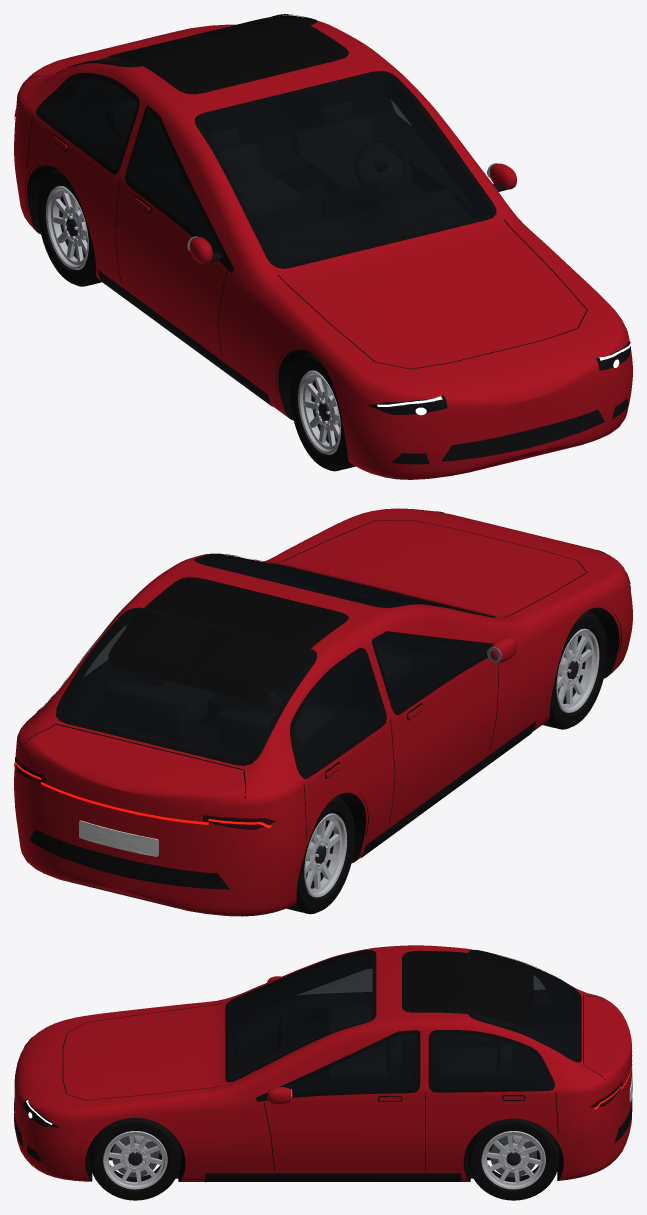
Rendered from berline_rouge.glb.
3 views of the same model, one above another, from view 1: azimuth 30°, elevation 25°; view 2: azimuth 150°, elevation 25°; view 3: azimuth 270°, elevation 25° (orthographic). The views are drawn at different scales.
Visible parts, largest first — view 1: carrosserie, vitres, interieur, toit_vitre, joints, roue_AVD, roue_ARD, grille_avant, bas_de_caisse, feux_avant, retros; view 2: carrosserie, vitres, toit_vitre, interieur, joints, roue_AVD, roue_ARD, grille_avant, bas_de_caisse, feux_arriere, plaque, retros; view 3: carrosserie, vitres, interieur, toit_vitre, joints, roue_AVG, roue_ARG, bas_de_caisse, grille_avant, retros.
Boxes of the visible parts, <box> form: carrosserie: <box>14,15,632,479</box>; vitres: <box>39,16,491,264</box>; interieur: <box>106,100,471,264</box>; toit_vitre: <box>108,17,348,94</box>; joints: <box>27,14,587,369</box>; roue_AVD: <box>290,352,355,471</box>; roue_ARD: <box>37,168,101,286</box>; grille_avant: <box>391,398,628,464</box>; bas_de_caisse: <box>25,163,290,406</box>; feux_avant: <box>368,342,630,415</box>; retros: <box>187,163,516,263</box>; carrosserie: <box>14,508,632,916</box>; vitres: <box>61,555,489,773</box>; toit_vitre: <box>108,577,348,700</box>; interieur: <box>106,582,467,759</box>; joints: <box>25,520,587,839</box>; roue_AVD: <box>542,611,607,729</box>; roue_ARD: <box>287,796,355,914</box>; grille_avant: <box>29,829,229,889</box>; bas_de_caisse: <box>355,605,621,857</box>; feux_arriere: <box>14,757,275,829</box>; plaque: <box>79,820,158,856</box>; retros: <box>487,636,516,662</box>; carrosserie: <box>14,945,631,1181</box>; vitres: <box>229,951,577,1097</box>; interieur: <box>230,1006,512,1081</box>; toit_vitre: <box>402,950,533,1027</box>; joints: <box>62,949,605,1170</box>; roue_AVG: <box>89,1117,180,1200</box>; roue_ARG: <box>468,1118,559,1200</box>; bas_de_caisse: <box>82,1160,461,1182</box>; grille_avant: <box>14,1097,632,1162</box>; retros: <box>267,976,292,1104</box>.
Size of the model in its own units: 2.1 by 1.45 by 4.71.
